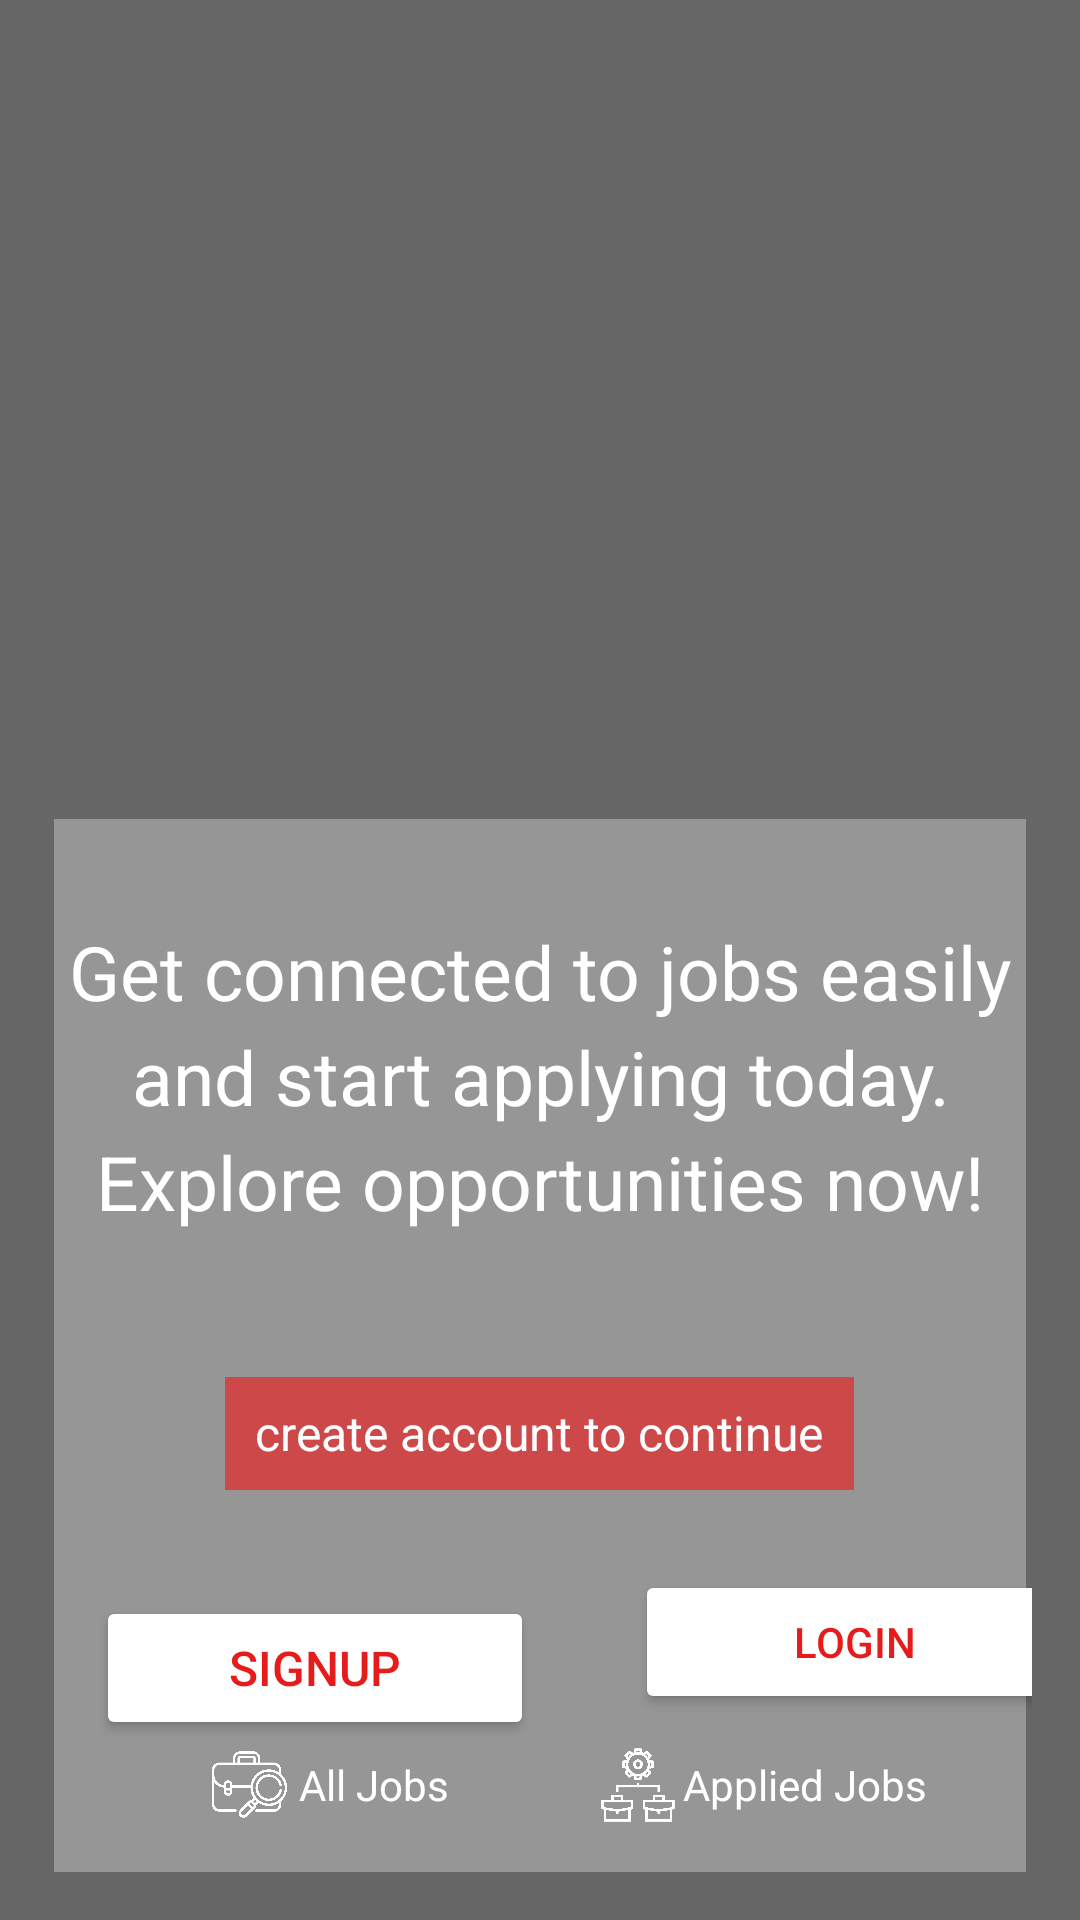

Screen size 1080px×1920px. Icon name, then its center in pixels as (x,y):
jobimg: (638,1785), (249,1784)
